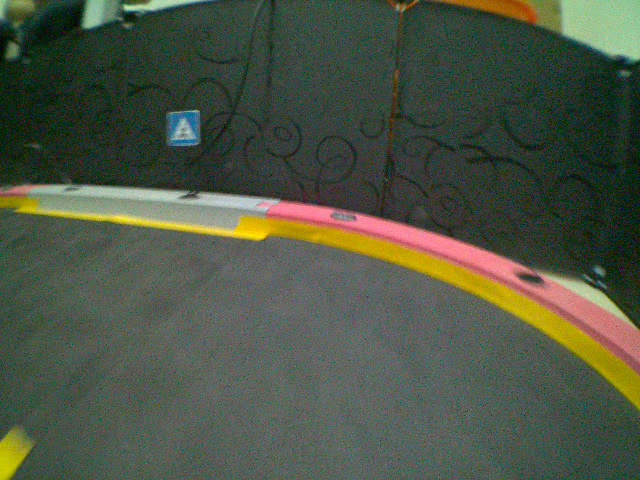crossing: (164, 108, 201, 149)
